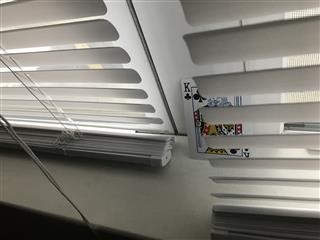KingOfClubs: (180, 77, 253, 159)
